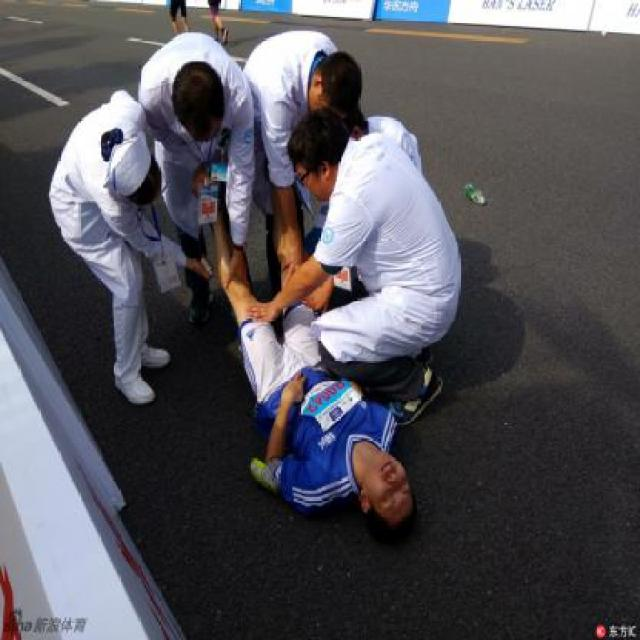fall: (216, 219, 424, 553)
